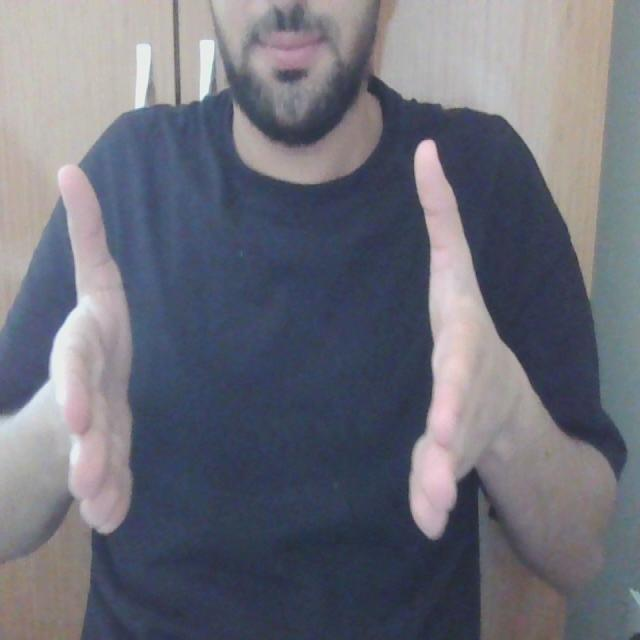Nasil: (41, 110, 502, 559)
